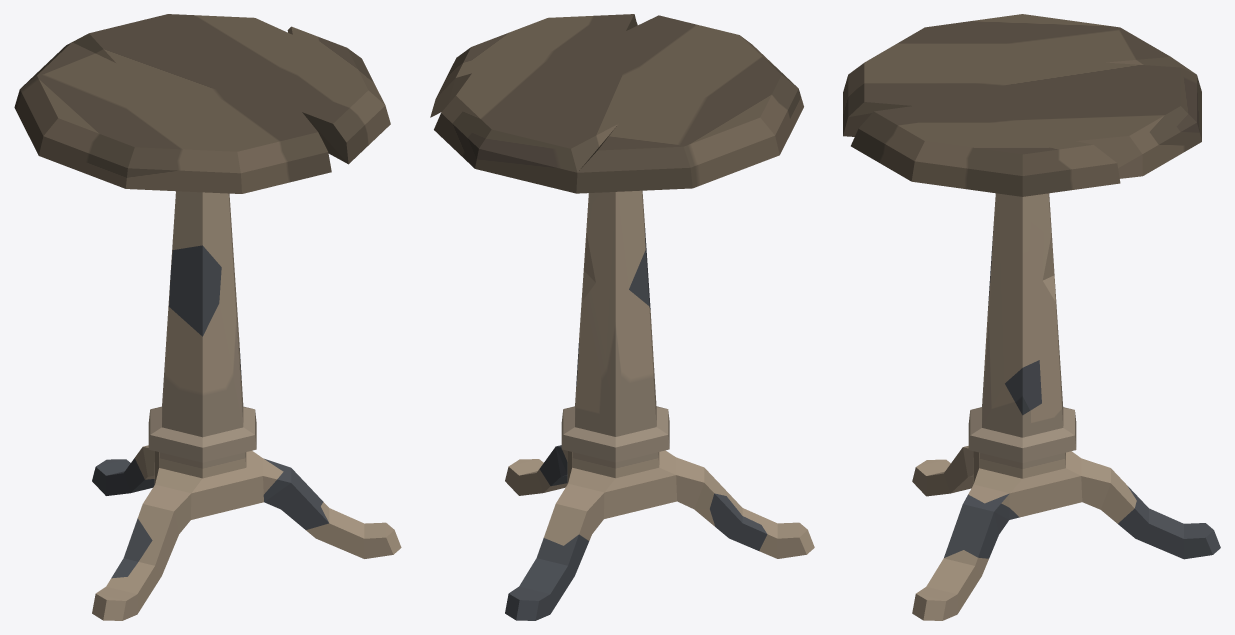
File: SM_Prop_Chair_01.fbx
The picture shows the model from 3 angles, left to right: view 1: azimuth 30°, elevation 25°; view 2: azimuth 150°, elevation 25°; view 3: azimuth 270°, elevation 25°; orthographic projection.
Parts seen in each view (by area): view 1: SM_Prop_Chair_01; view 2: SM_Prop_Chair_01; view 3: SM_Prop_Chair_01.
Boxes of the visible parts, <box> form: SM_Prop_Chair_01: <box>14,14,401,620</box>; SM_Prop_Chair_01: <box>430,14,814,620</box>; SM_Prop_Chair_01: <box>843,14,1220,620</box>.
Bounding box in the file's own units: 54.62 × 74.6 × 54.67.
